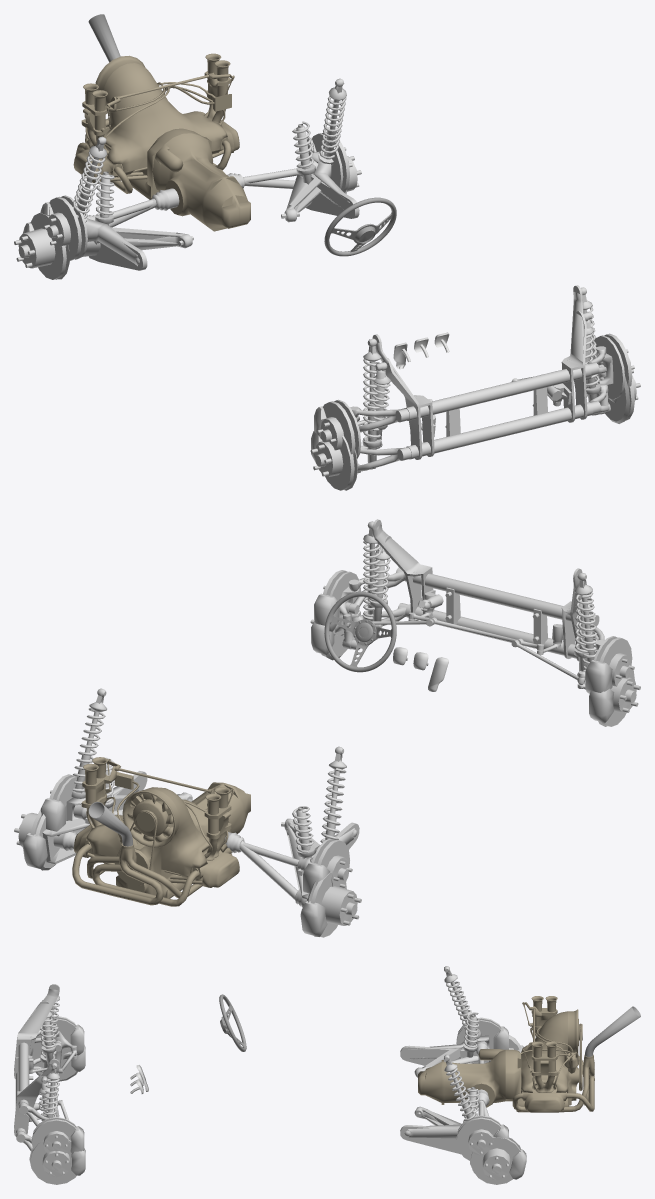
The model's file is FormulaBeeModel.dae.
3 views of the same model, one above another, from view 1: azimuth 30°, elevation 25°; view 2: azimuth 150°, elevation 25°; view 3: azimuth 270°, elevation 25° (orthographic). The views are drawn at different scales.
Parts seen in each view (by area): view 1: autobello_frontaxlebeam_wide, autobello_cooling_c, autobello_gearbox, autobello_arm_offroad_R, autobello_arm_R, autobello_coilover_offroad_R, autobello_engineblock, autobello_intake_c, autobello_brakedisk_offroad_RR, autobello_coilover_offroad_F, TutoFBee_steering_wheel_b, autobello_hub_wide_F (+15 smaller); view 2: autobello_frontaxlebeam_wide, autobello_cooling_c, autobello_exhaust_b, autobello_engineblock, autobello_coilover_offroad_R, TutoFBee_steering_wheel_b, autobello_coilover_offroad_F, autobello_intake_c, autobello_arm_offroad_R, autobello_brakedisk_offroad_RR, autobello_caliper_offroad_R, autobello_halfshaft_offroad_R (+19 smaller); view 3: autobello_gearbox, autobello_cooling_c, autobello_engineblock, autobello_arm_offroad_R, autobello_frontaxlebeam_wide, autobello_arm_R, autobello_brakedisk_offroad_RL, autobello_coilover_offroad_R, autobello_brakedisk_offroad_FL, autobello_intake_c, autobello_brakedisk_track_RL, autobello_brakedisk_track_FL (+16 smaller).
Part boxes in pixels (box(x1,y1,x2,y2)): autobello_frontaxlebeam_wide: box(382, 311, 593, 459); autobello_cooling_c: box(86, 55, 227, 172); autobello_gearbox: box(152, 133, 250, 231); autobello_arm_offroad_R: box(83, 174, 359, 270); autobello_arm_R: box(85, 151, 353, 266); autobello_coilover_offroad_R: box(72, 78, 346, 222); autobello_engineblock: box(73, 114, 239, 199); autobello_intake_c: box(81, 71, 234, 157); autobello_brakedisk_offroad_RR: box(14, 212, 66, 279); autobello_coilover_offroad_F: box(362, 287, 601, 469); TutoFBee_steering_wheel_b: box(324, 197, 396, 256); autobello_hub_wide_F: box(334, 335, 625, 458); autobello_frontaxlebeam_wide: box(384, 536, 581, 661); autobello_cooling_c: box(86, 787, 227, 875); autobello_exhaust_b: box(72, 841, 231, 906); autobello_engineblock: box(73, 804, 239, 898); autobello_coilover_offroad_R: box(71, 688, 346, 842); TutoFBee_steering_wheel_b: box(324, 591, 396, 672); autobello_coilover_offroad_F: box(362, 521, 597, 671); autobello_intake_c: box(81, 759, 234, 860); autobello_arm_offroad_R: box(42, 771, 359, 907); autobello_brakedisk_offroad_RR: box(310, 871, 361, 937); autobello_caliper_offroad_R: box(22, 833, 327, 936); autobello_halfshaft_offroad_R: box(53, 831, 306, 907); autobello_gearbox: box(418, 1049, 505, 1107); autobello_cooling_c: box(521, 1009, 578, 1093); autobello_engineblock: box(505, 1049, 578, 1112); autobello_arm_offroad_R: box(400, 1045, 513, 1154); autobello_frontaxlebeam_wide: box(14, 1001, 49, 1136); autobello_arm_R: box(402, 1035, 489, 1138); autobello_brakedisk_offroad_RL: box(470, 1136, 520, 1184); autobello_coilover_offroad_R: box(444, 966, 481, 1121); autobello_brakedisk_offroad_FL: box(30, 1140, 76, 1184); autobello_intake_c: box(522, 1002, 557, 1092); autobello_brakedisk_track_RL: box(456, 1117, 501, 1160); autobello_brakedisk_track_FL: box(31, 1119, 76, 1153).
Size of the model in its own units: 1.52 by 3.25 by 0.774.
